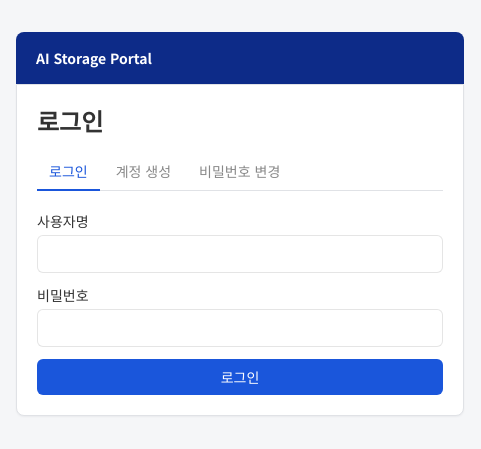
Test case: 네트워크 단절은 일반 한국어 문구를 보인다 -- 영어 원문 노출 금지
The image size is (481, 449).
In the field labelled "사용자명": (240, 254) x1=37 y1=235 x2=443 y2=273, type "alice"
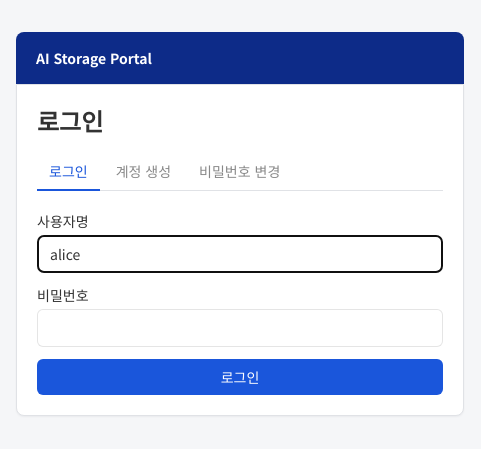
In the password field labelled "비밀번호": (240, 328) x1=37 y1=309 x2=443 y2=347, type "pw"
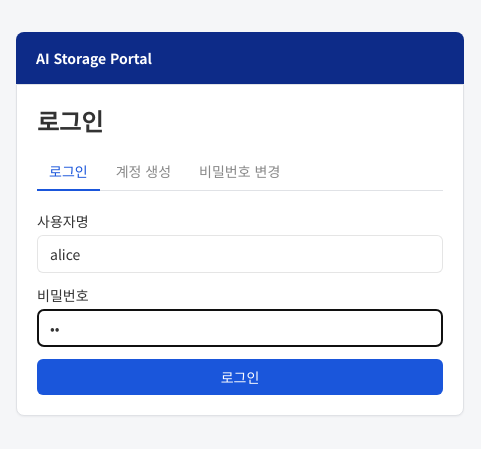
Click the button "로그인": (240, 377) x1=37 y1=359 x2=443 y2=395
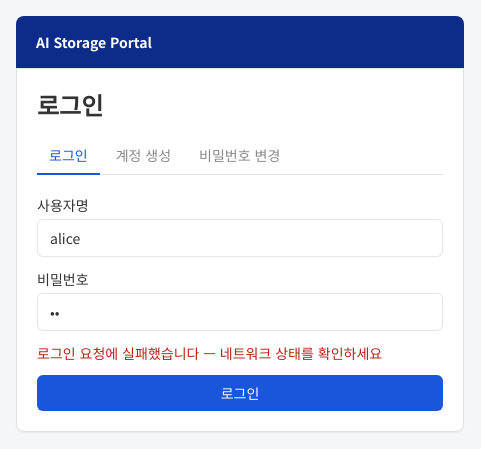
Result: the text "로그인 요청에 실패했습니다 — 네트워크 상태를 확인하세요" is shown at x1=37 y1=343 x2=443 y2=363
